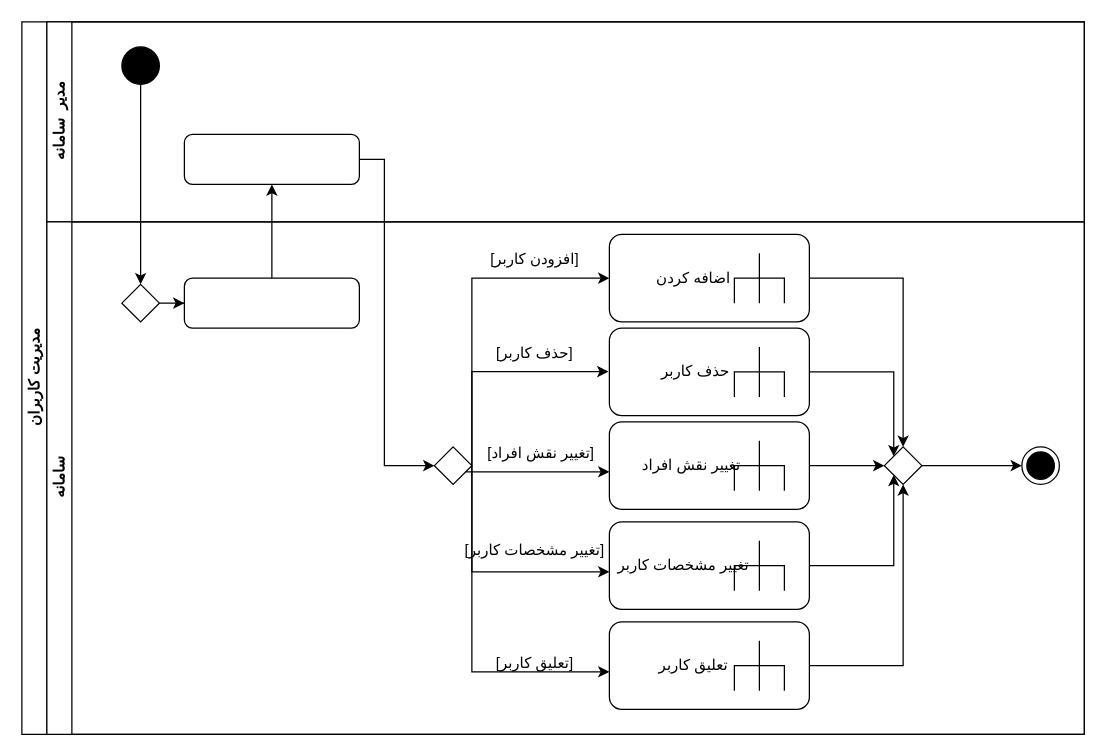
This 1106x756 diagram has some shape labels left out. Each missing label, with the centre of its shape:
"انتخاب عملیات" belongs at [271,158].
"درخواست انتخاب عملیات" belongs at [271,302].
